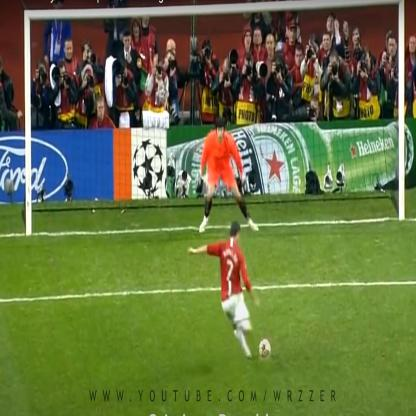penalty kick: (151, 6, 304, 384)
